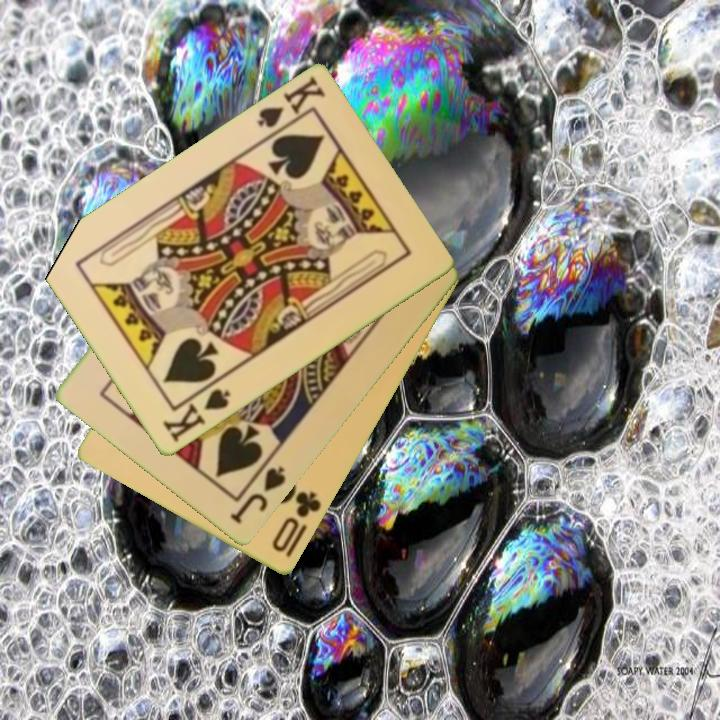10c: (268, 488, 325, 556)
Js: (226, 463, 289, 527)
Ks: (253, 73, 329, 143), (159, 386, 233, 446)
